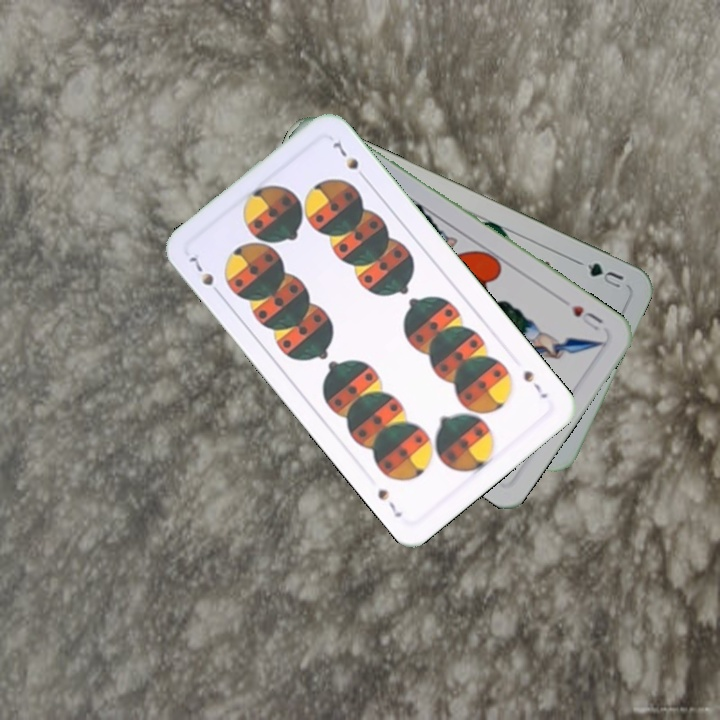GU: (573, 256, 626, 291)
HU: (566, 301, 606, 334)
S7: (183, 249, 225, 300), (519, 366, 551, 401)
